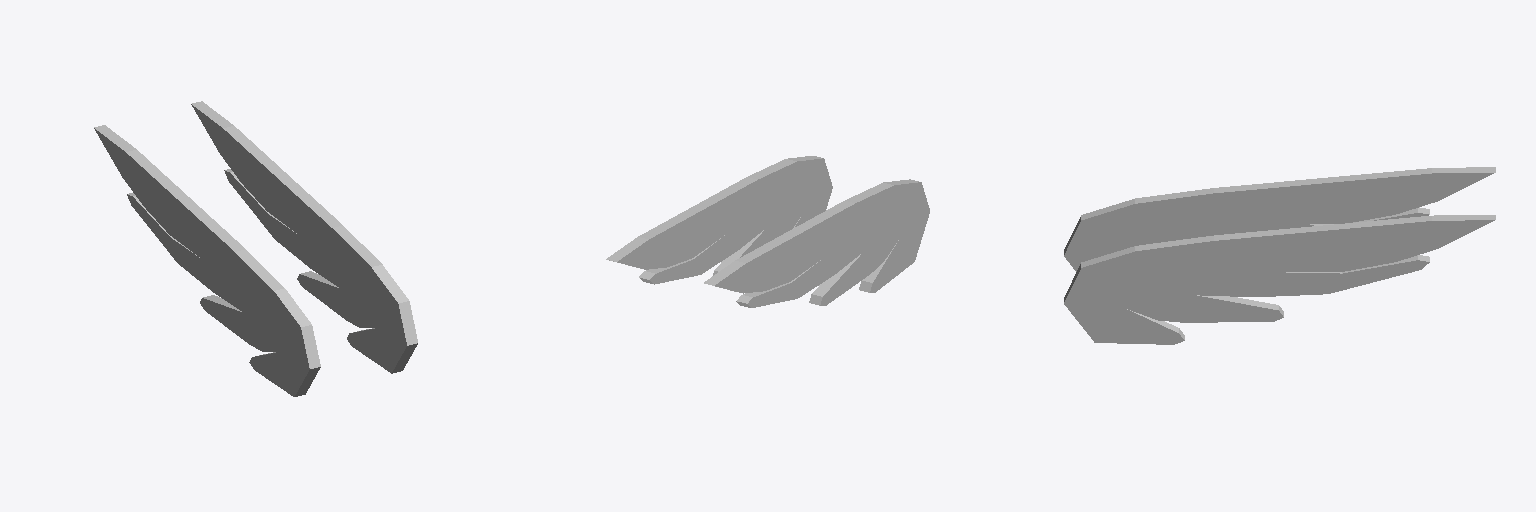
Rendered from BirdWings.obj.
3 renders of one model, left to right at view 1: azimuth 30°, elevation 25°; view 2: azimuth 150°, elevation 25°; view 3: azimuth 270°, elevation 25°, orthographic.
Parts seen in each view (by area): view 1: wings_Plane.008; view 2: wings_Plane.008; view 3: wings_Plane.008.
Boxes of the visible parts, x1,y1,x2,y2 form: wings_Plane.008: [94, 101, 417, 396]; wings_Plane.008: [606, 156, 929, 307]; wings_Plane.008: [1064, 167, 1495, 344].
Size of the model in its own units: 2 by 2.2 by 6.89.